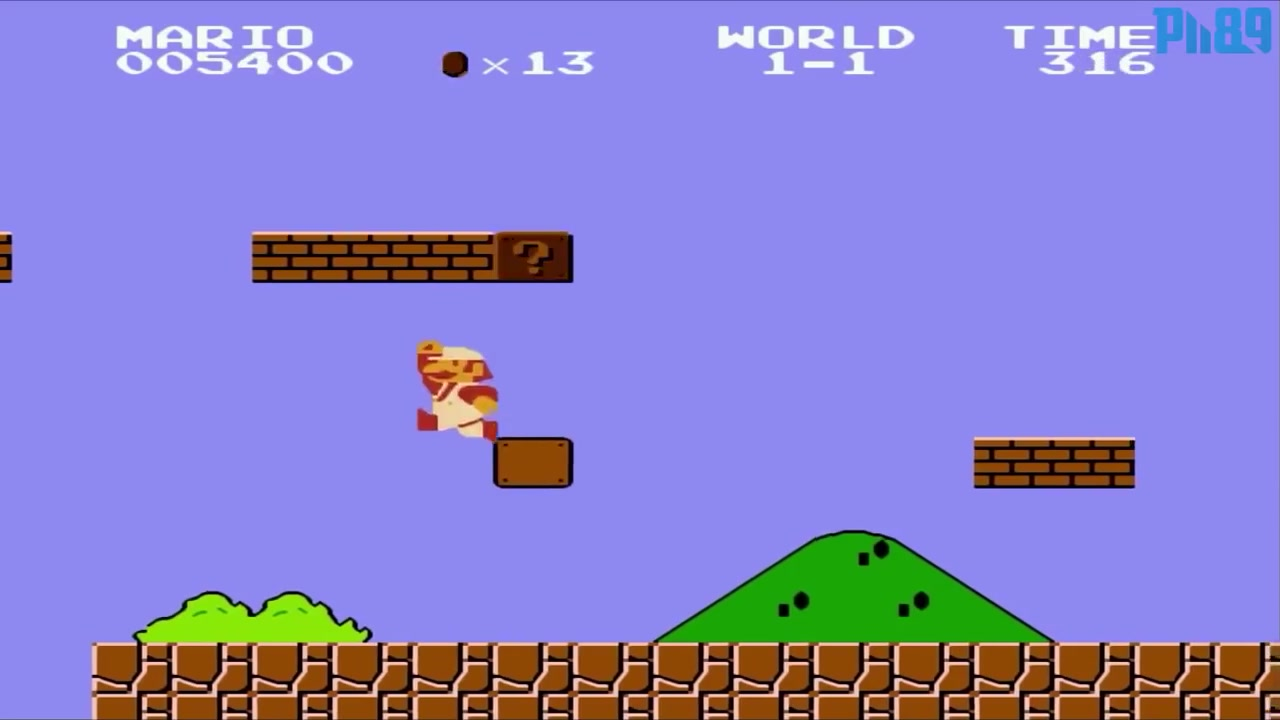mario: (405, 331, 502, 439)
